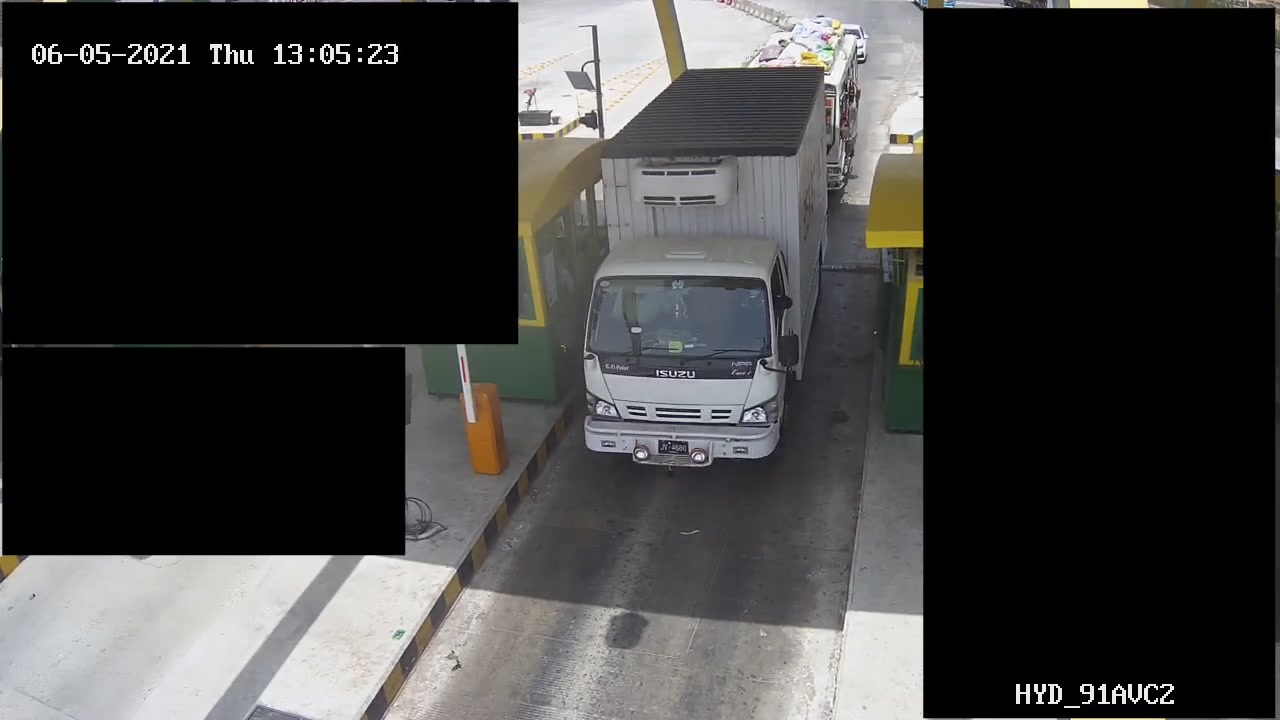F3: (576, 62, 832, 482)
